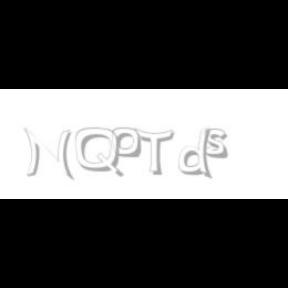N: (23, 128, 72, 180)
Q: (76, 128, 122, 178)
T: (134, 128, 174, 176)
d: (179, 128, 216, 180)
o: (112, 128, 140, 158)
s: (204, 128, 232, 160)
